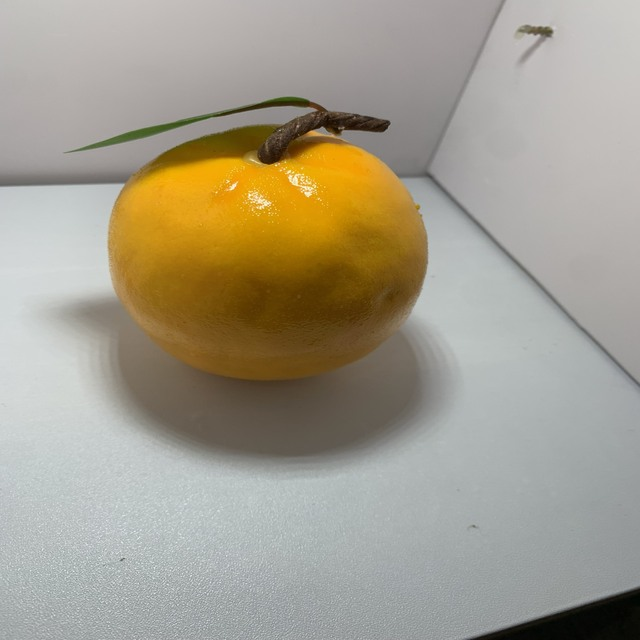Cam vang: (109, 93, 424, 383)
